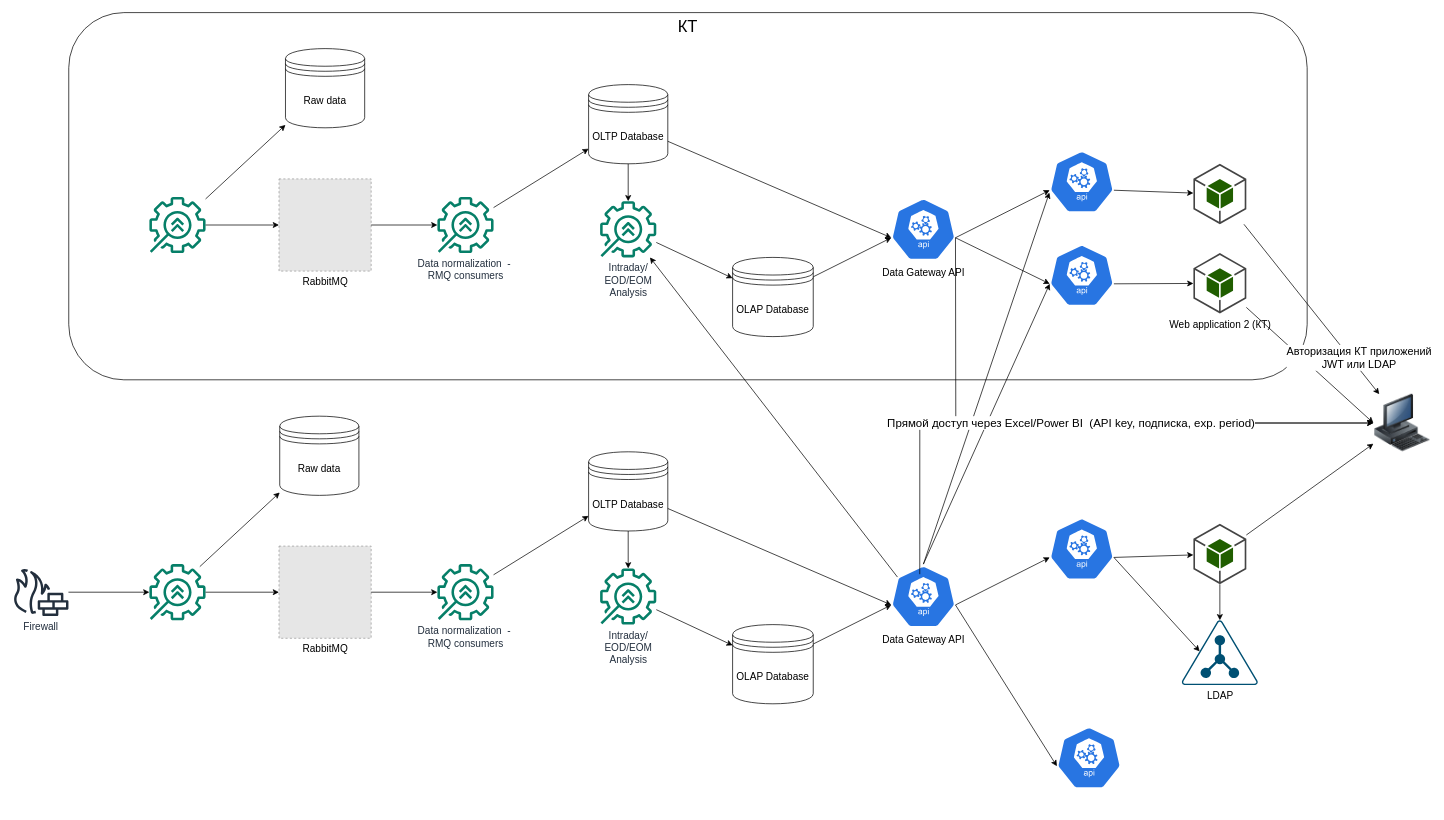
Image size: 1444x820. Some labels were removed from this diagram. Grey dashed boxes stand in for pictures. Here are the shapes that lost their labels. From the top down, the centre of each, then its label:
At (x=1081, y=181): "Web API 1".
At (x=1219, y=193): "Web application 1 (КТ)".
At (x=177, y=225): "Internal sources readers - RMQ Publishers".
At (x=1081, y=275): "Web API 2".
At (x=1402, y=422): "End users".
At (x=1081, y=548): "Web API".
At (x=1219, y=553): "Web application 3".
At (x=177, y=592): "External sources readers (RMQ publishers)".
At (x=1088, y=757): "Telegram App".
